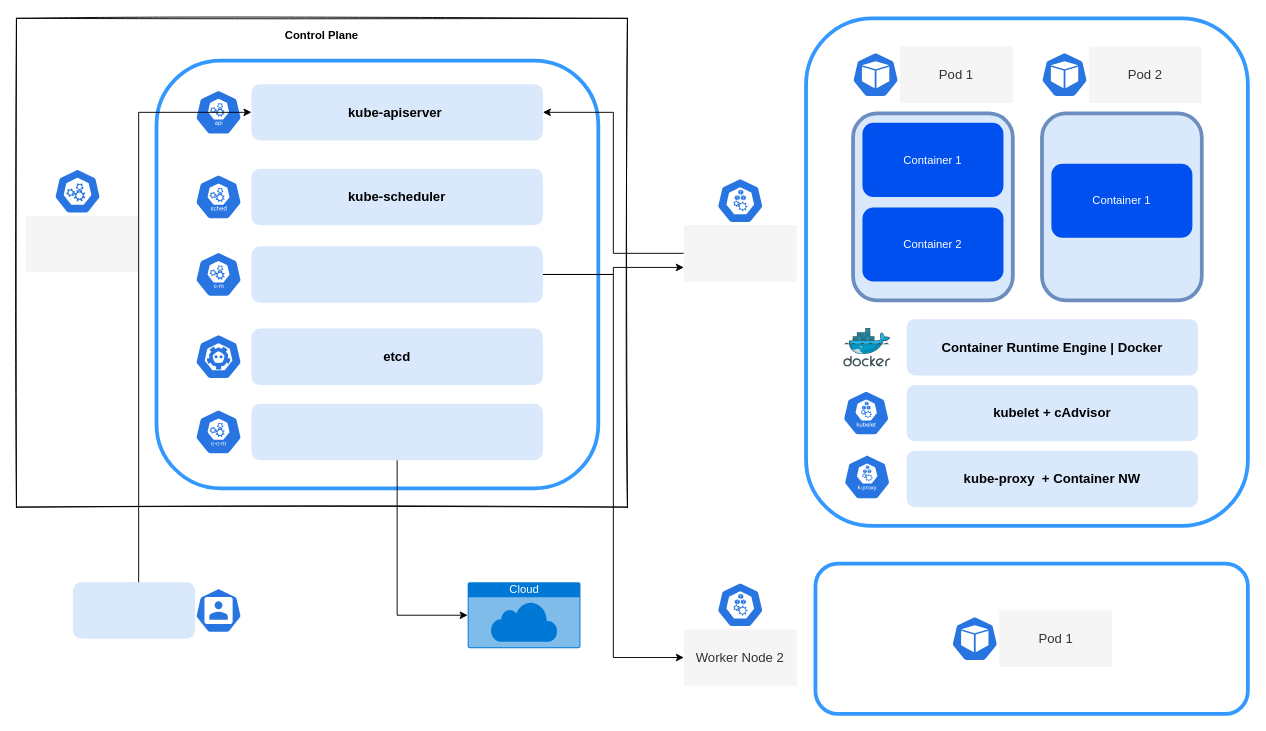
The diagram is 1266 pixels wide and 731 high, and some of its shapes have lost their labels. Each missing label, with the centre of its shape:
cloud-controller-manager: the point at 396,431
kube-controller-manager: the point at 396,274
KubeCTL | UI: the point at 133,610
Master Node: the point at 81,243
Worker Node 1: the point at 739,253
